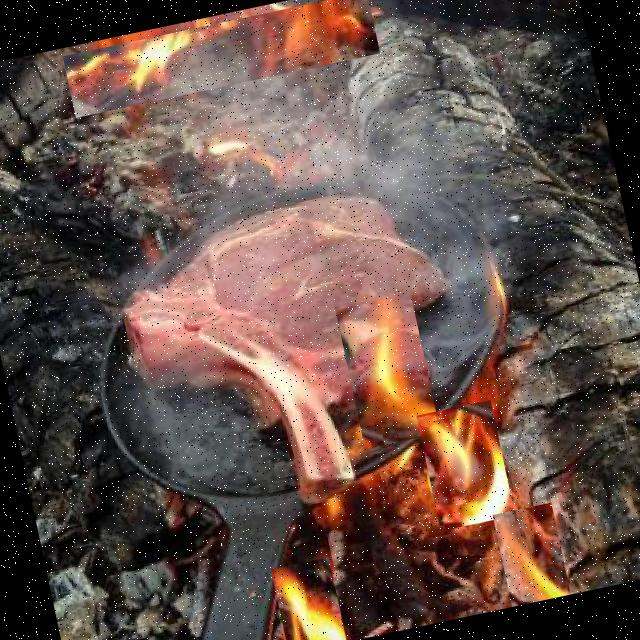fire: (62, 0, 379, 117), (335, 291, 440, 448), (416, 400, 515, 530), (492, 502, 570, 606), (270, 556, 346, 640), (204, 126, 254, 162)
